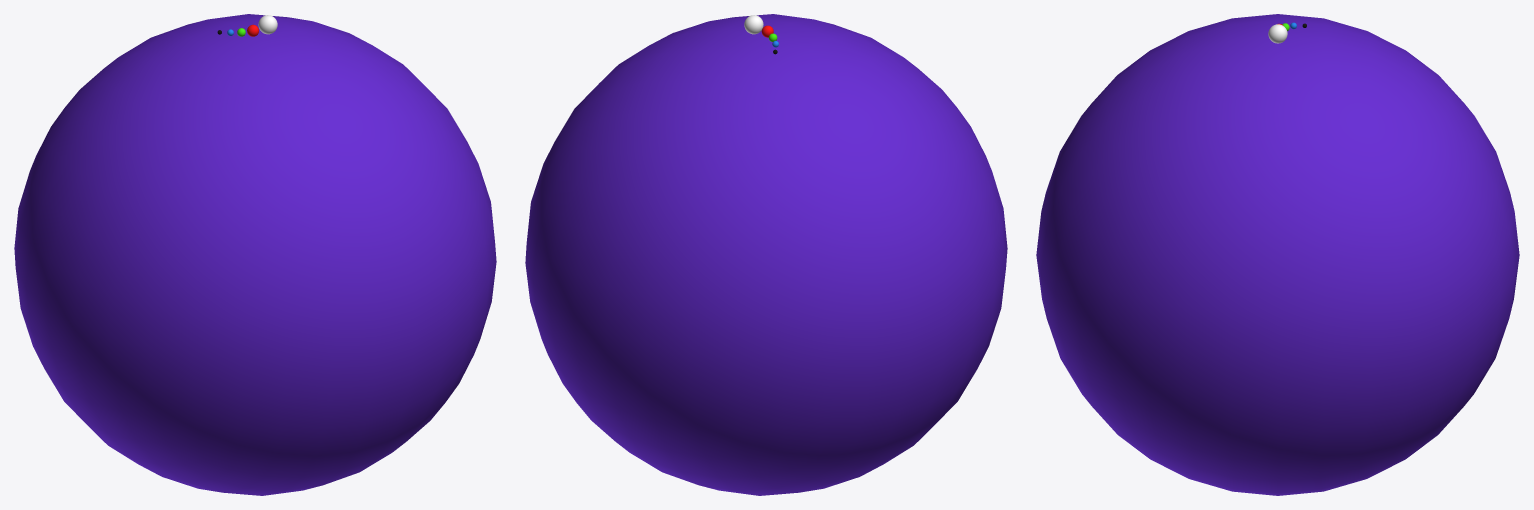
The model's file is BallsOut.glb.
3 renders of one model, left to right at view 1: azimuth 30°, elevation 25°; view 2: azimuth 150°, elevation 25°; view 3: azimuth 270°, elevation 25°, orthographic.
Parts seen in each view (by area): view 1: Big Sphere (1); view 2: Big Sphere (1); view 3: Big Sphere (1).
Part boxes in pixels (box(x1,y1,x2,y2)): Big Sphere (1): box(14, 14, 496, 495); Big Sphere (1): box(525, 14, 1007, 495); Big Sphere (1): box(1036, 14, 1519, 495).
Size of the model in its own units: 50 by 51.96 by 50.
